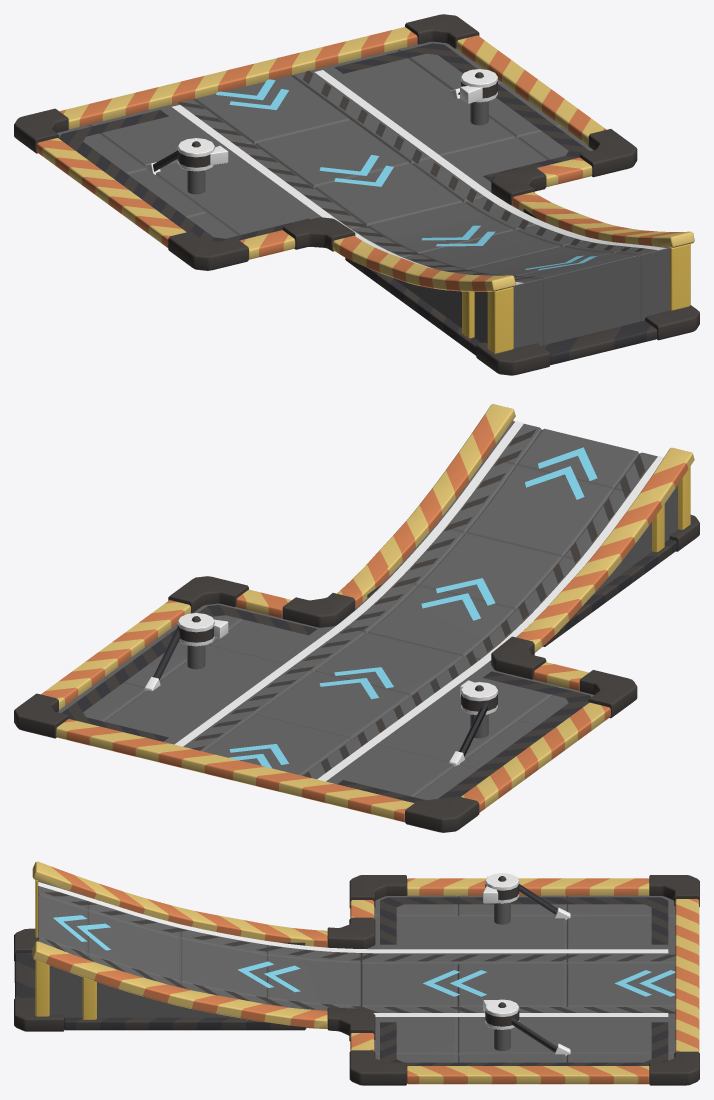
The model's file is Launcher4.fbx.
3 views of the same model, one above another, from view 1: azimuth 30°, elevation 25°; view 2: azimuth 150°, elevation 25°; view 3: azimuth 270°, elevation 25° (orthographic). The views are drawn at different scales.
Visible parts, largest first — view 1: Launcher4; view 2: Launcher4; view 3: Launcher4.
Boxes of the visible parts, x1,y1,x2,y2 form: Launcher4: (14, 14, 699, 375); Launcher4: (14, 404, 699, 832); Launcher4: (14, 861, 699, 1085).
Bounding box in the file's own units: 60.22 × 13.41 × 87.96.
Materials: 1 (1 with a texture image).
